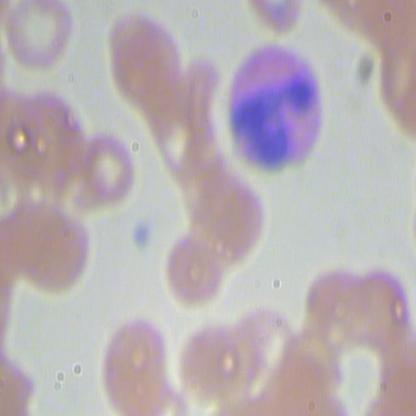Platelets: (130, 216, 155, 255)
WBC: (220, 36, 334, 179)
